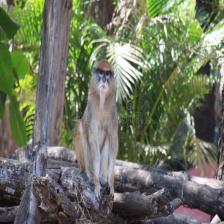monkey: (79, 54, 122, 204)
